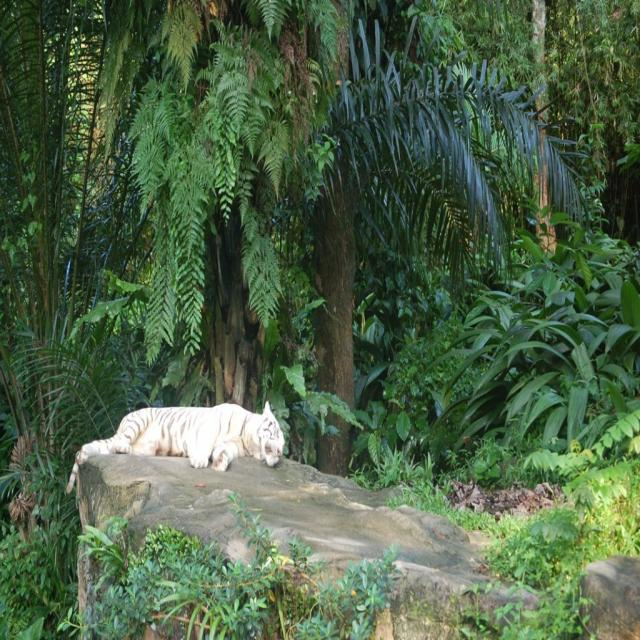Tiger: (66, 404, 286, 494)
